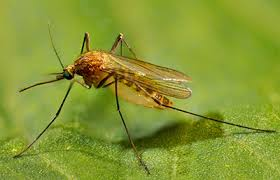mosquito: (14, 21, 272, 169)
